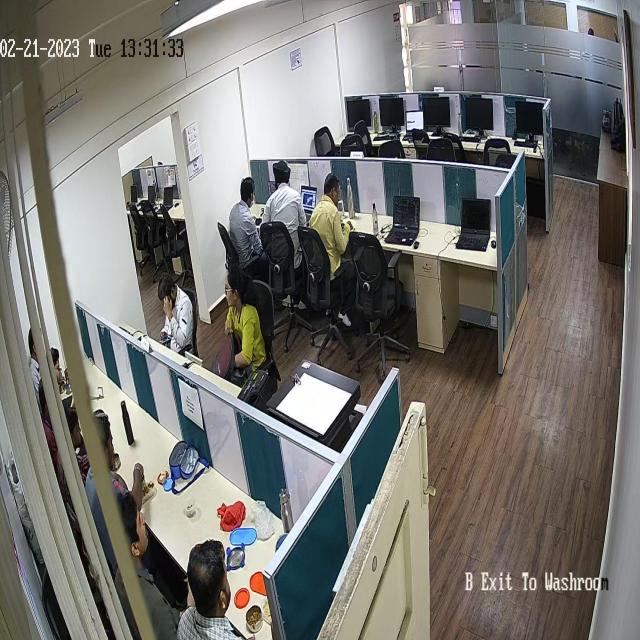keyboard: (512, 136, 538, 151), (370, 132, 400, 143), (458, 134, 482, 145)
laptop: (456, 196, 492, 256), (386, 192, 421, 252), (403, 110, 424, 148), (141, 180, 157, 220), (158, 184, 174, 216), (126, 177, 138, 217)
monitor: (466, 94, 496, 135), (514, 96, 544, 136), (418, 94, 452, 127), (380, 96, 404, 128), (348, 98, 372, 130)
person: (178, 530, 254, 640), (224, 261, 276, 394), (303, 174, 354, 304), (264, 162, 309, 272), (149, 262, 197, 354), (221, 174, 262, 272)
phone: (155, 328, 173, 351)
